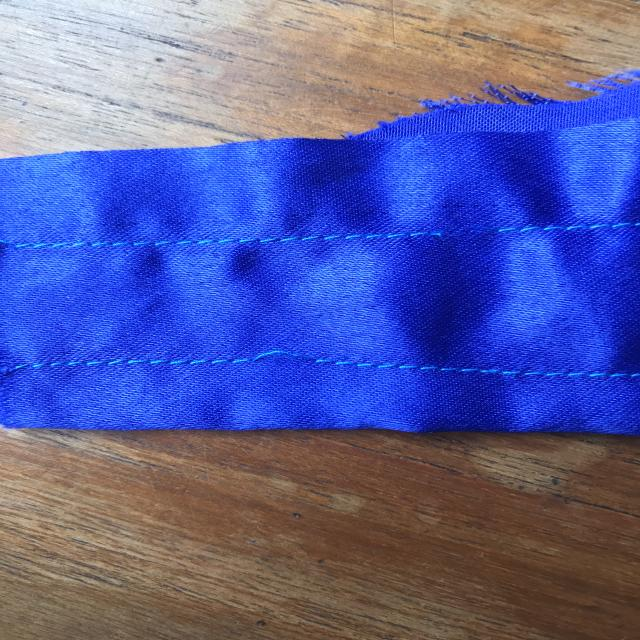broken: (409, 207, 526, 254)
good: (134, 224, 332, 252), (420, 354, 570, 387)
skip: (197, 340, 344, 390)
